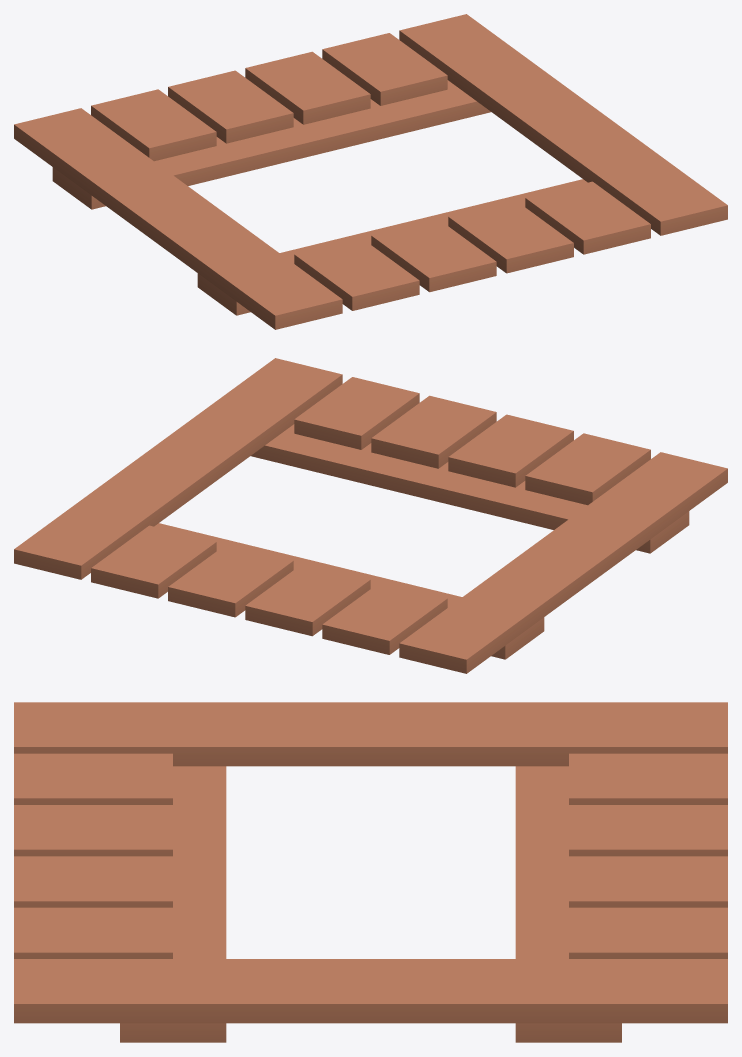
Rendered from planks-opening.glb.
3 renders of one model, top to bottom at view 1: azimuth 30°, elevation 25°; view 2: azimuth 150°, elevation 25°; view 3: azimuth 270°, elevation 25°, orthographic. The views are drawn at different scales.
Parts seen in each view (by area): view 1: planks-opening; view 2: planks-opening; view 3: planks-opening.
Boxes of the visible parts, x1,y1,x2,y2 form: planks-opening: [14, 14, 727, 329]; planks-opening: [14, 358, 727, 673]; planks-opening: [14, 702, 727, 1042].
Size of the model in its own units: 1 by 0.0599 by 1.
1 material, 1 textured.
